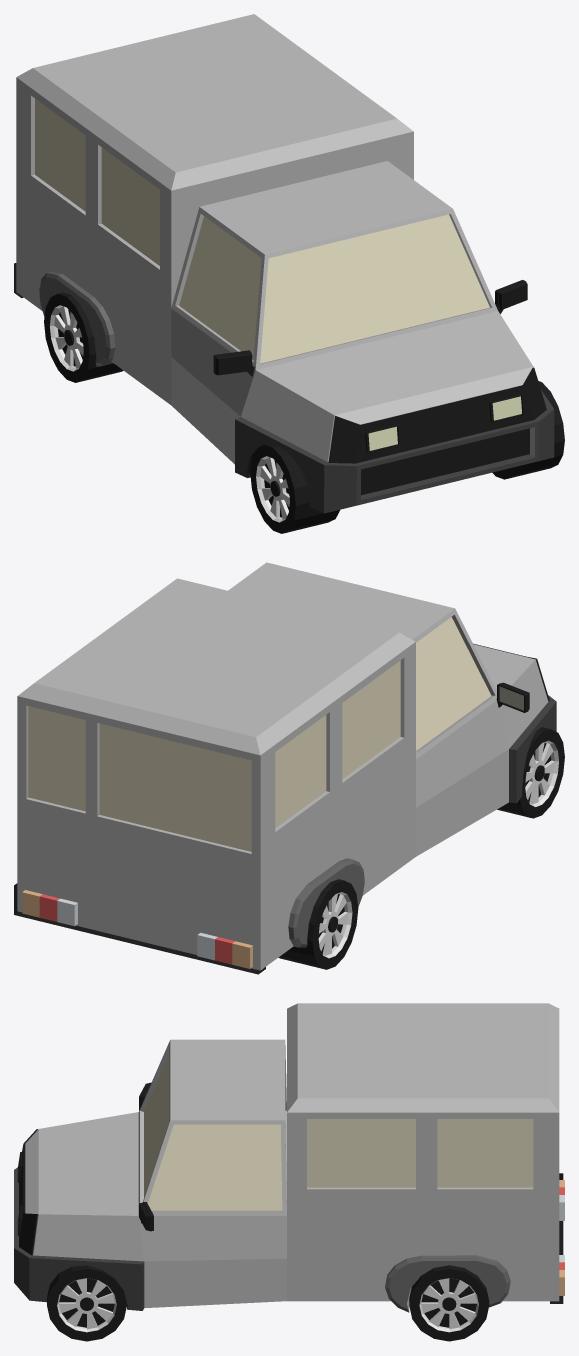
File: L400 white.fbx
The picture shows the model from 3 angles, top to bottom: view 1: azimuth 30°, elevation 25°; view 2: azimuth 150°, elevation 25°; view 3: azimuth 270°, elevation 25°; orthographic projection. The views are drawn at different scales.
Visible parts, largest first — view 1: tamaraw.010; view 2: tamaraw.010; view 3: tamaraw.010.
Part boxes in pixels (<box>): tamaraw.010: <box>14,14,564,533</box>; tamaraw.010: <box>14,562,564,974</box>; tamaraw.010: <box>14,1003,564,1341</box>.
Bounding box in the file's own units: 450 × 365 × 784.
